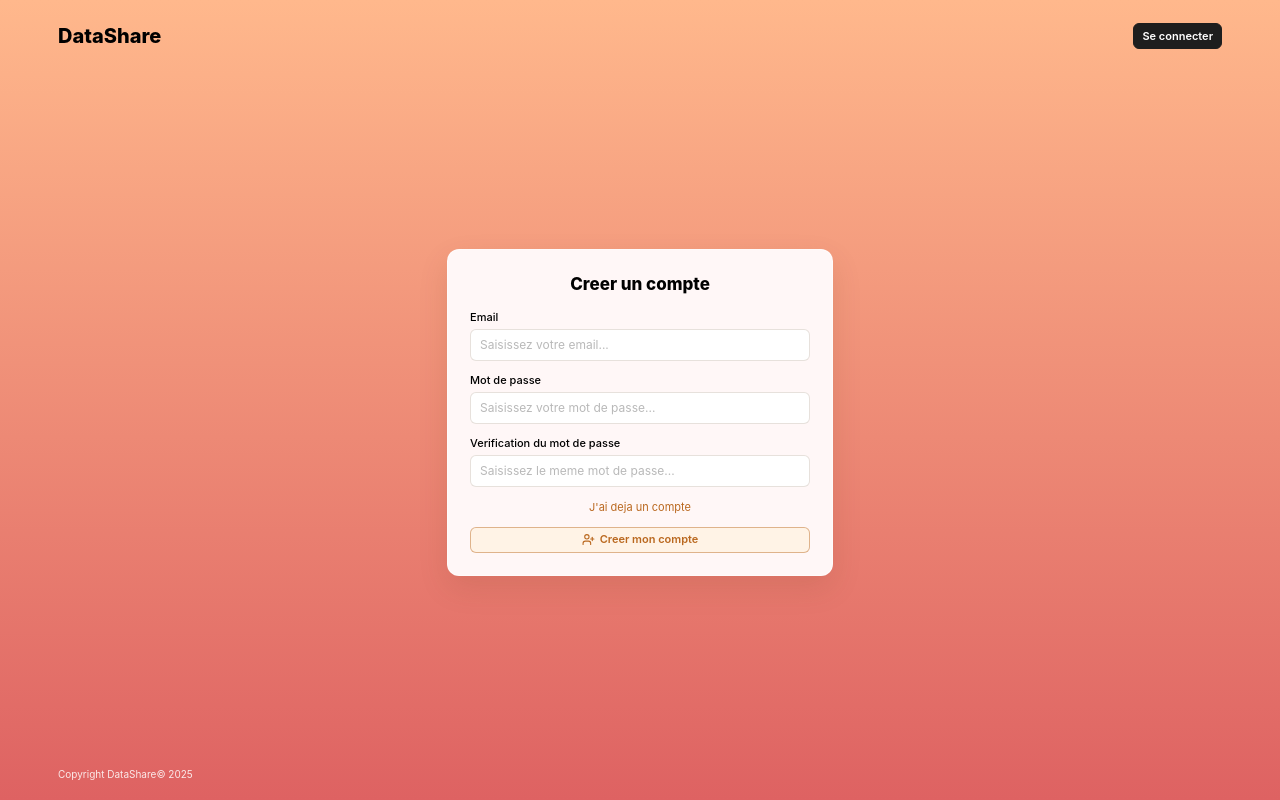
Test: RegisterPage › shows a clear client-side error for invalid email and does not submit
Type "not-an-email" into the field labelled "Email" at (640, 344), box [470,328,810,360]
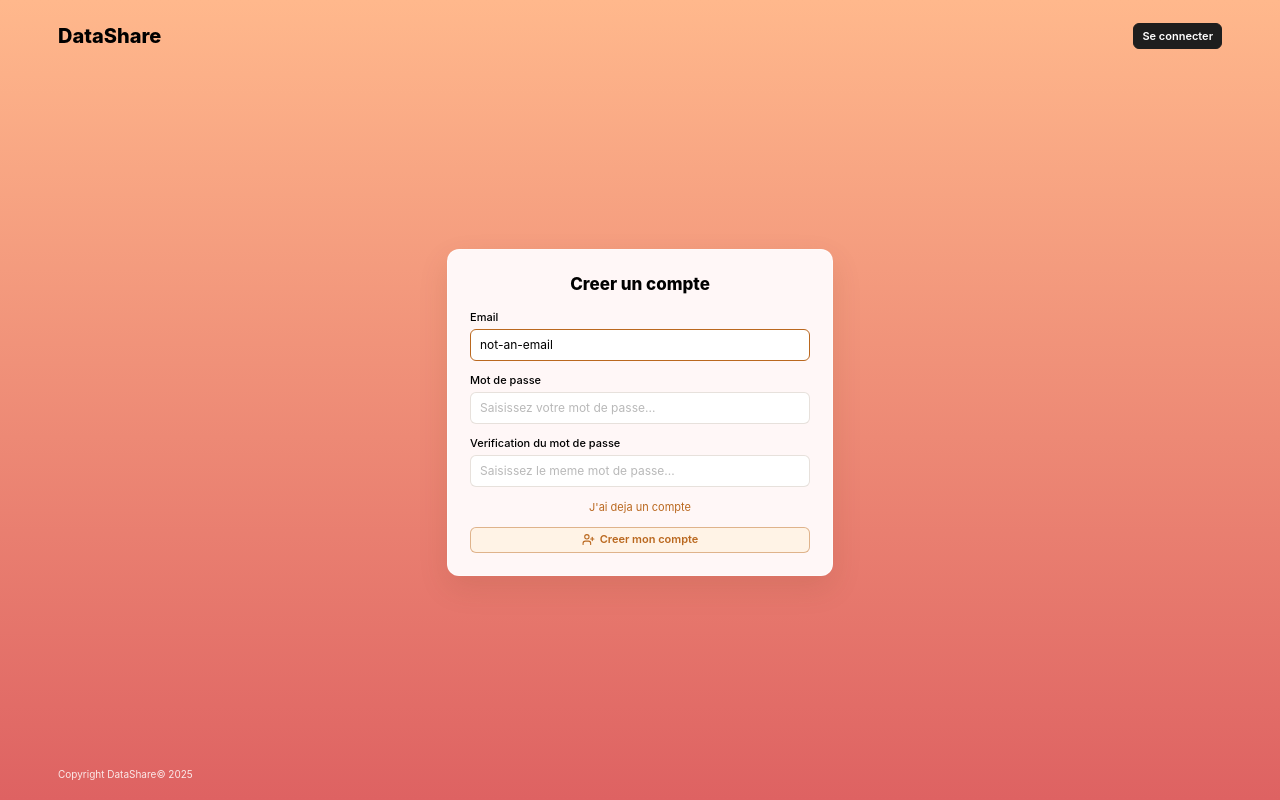
Type "Password123" into the password field labelled "Mot de passe" at (640, 408), box [470,392,810,424]
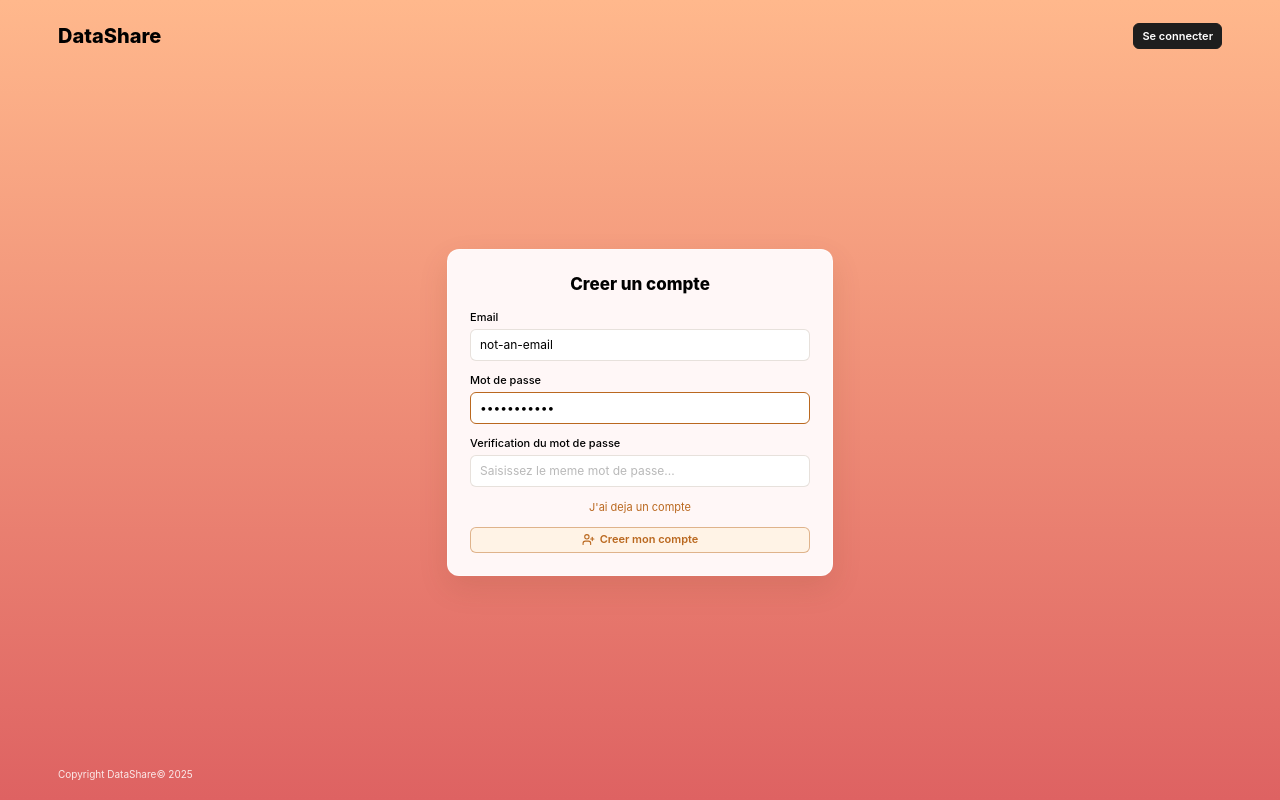
Type "Password123" into the password field labelled "Verification du mot de passe" at (640, 470), box [470,454,810,486]
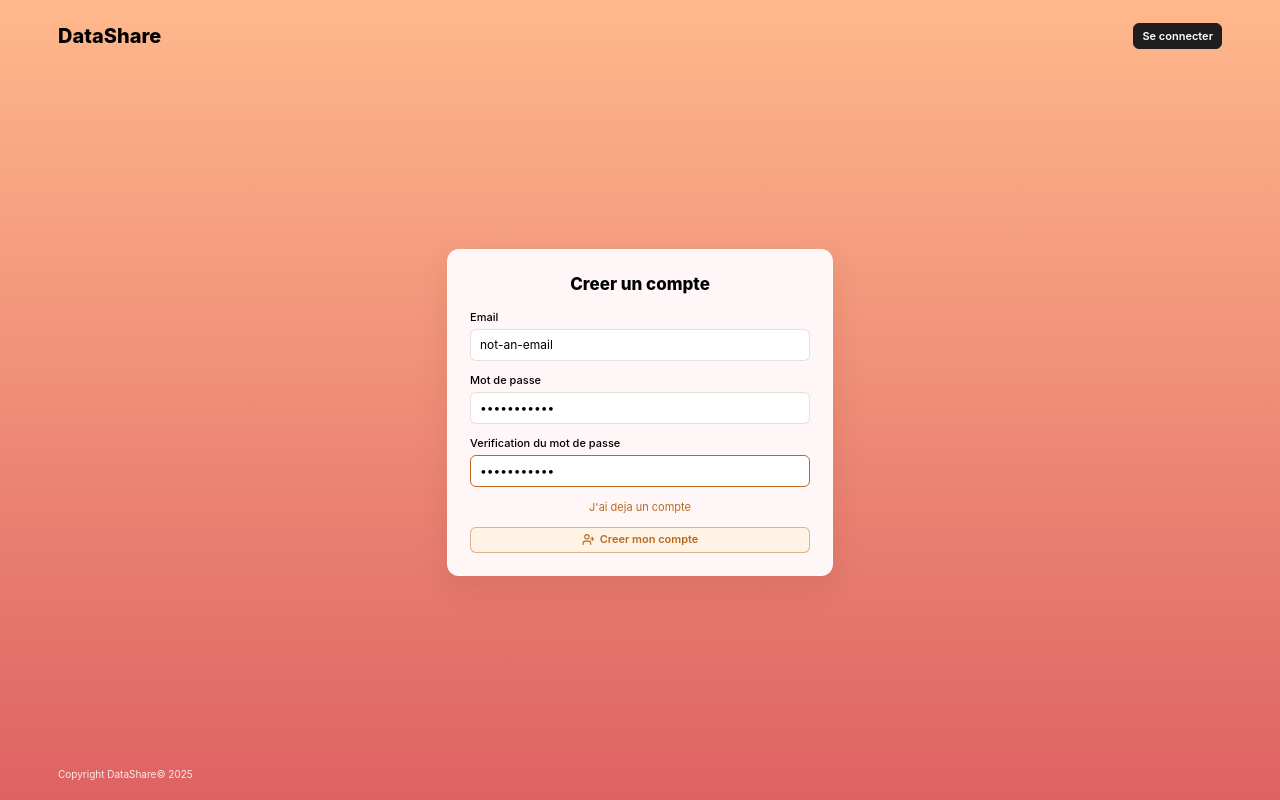
Click the button "Creer mon compte" at (640, 540), box [470,526,810,552]
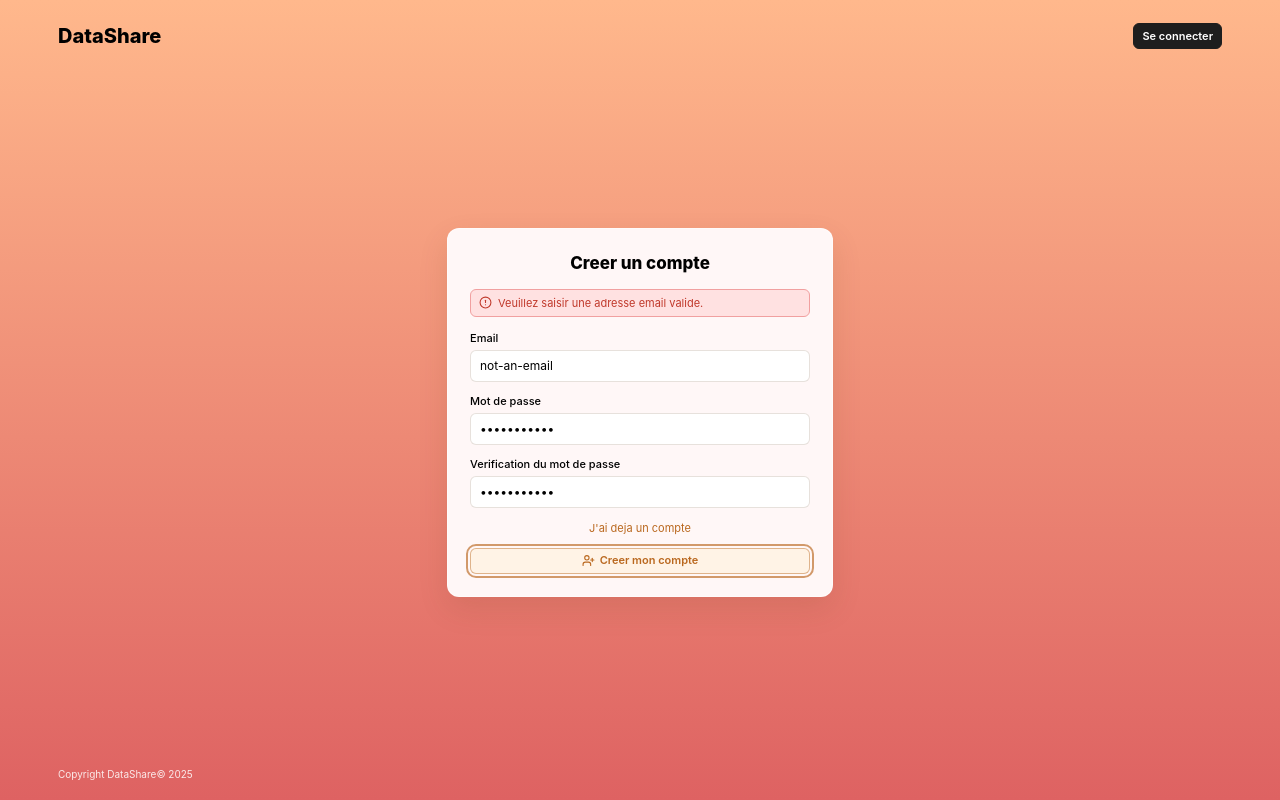
Expected: the text "Veuillez saisir une adresse email valide." is shown, [498,296,703,310]
